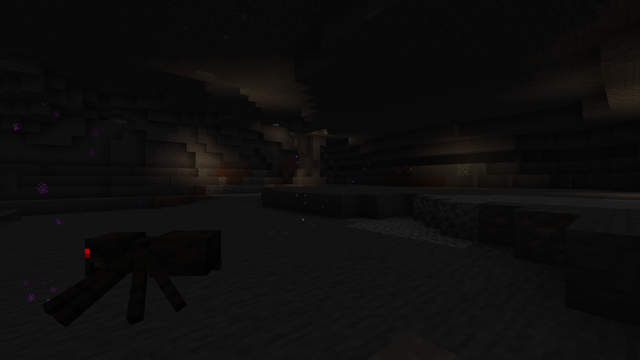araignees: (80, 218, 213, 328), (392, 165, 413, 175)
